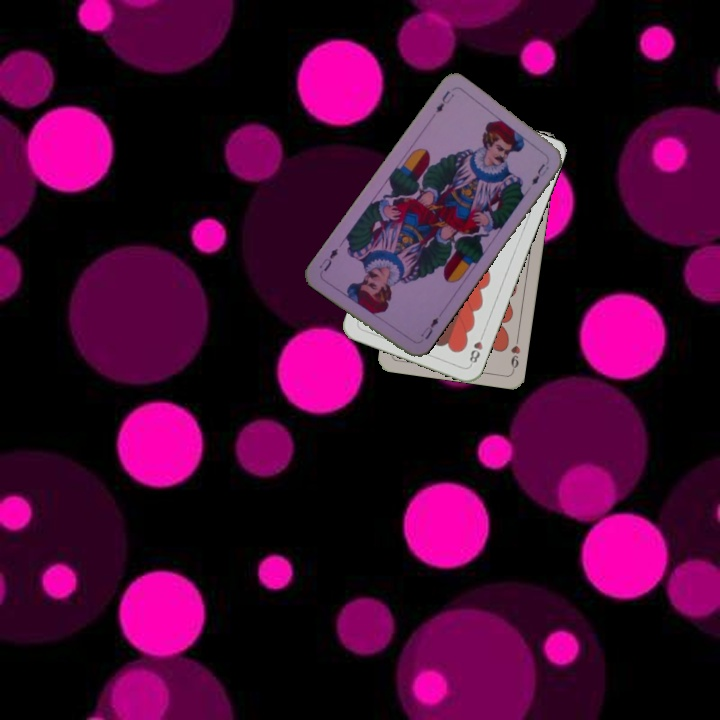EU: (417, 313, 442, 343), (432, 86, 457, 115)
H8: (465, 329, 487, 368)
H9: (507, 333, 523, 373)
